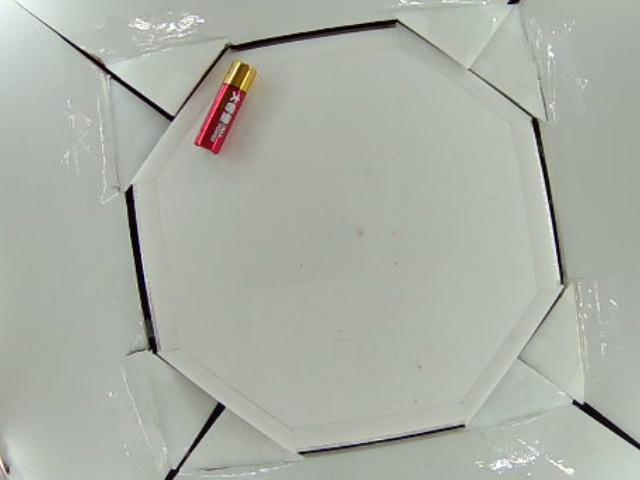Battery: (194, 60, 259, 157)
